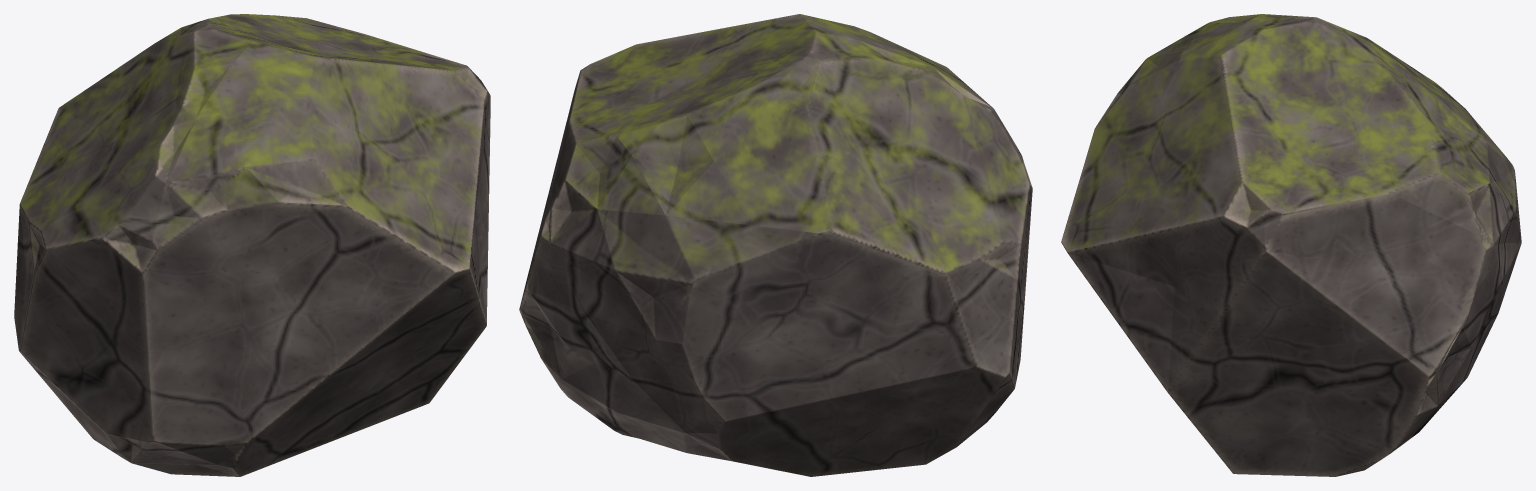
Rendered from Stone_Small_B.fbx.
The picture shows the model from 3 angles, left to right: view 1: azimuth 30°, elevation 25°; view 2: azimuth 150°, elevation 25°; view 3: azimuth 270°, elevation 25°; orthographic projection. The views are drawn at different scales.
Visible parts, largest first — view 1: Stone_Small_B; view 2: Stone_Small_B; view 3: Stone_Small_B.
Boxes of the visible parts, x1,y1,x2,y2 form: Stone_Small_B: (14, 14, 490, 476); Stone_Small_B: (519, 14, 1032, 476); Stone_Small_B: (1061, 14, 1521, 476).
Bounding box in the file's own units: 0.2992 × 0.2464 × 0.278.
